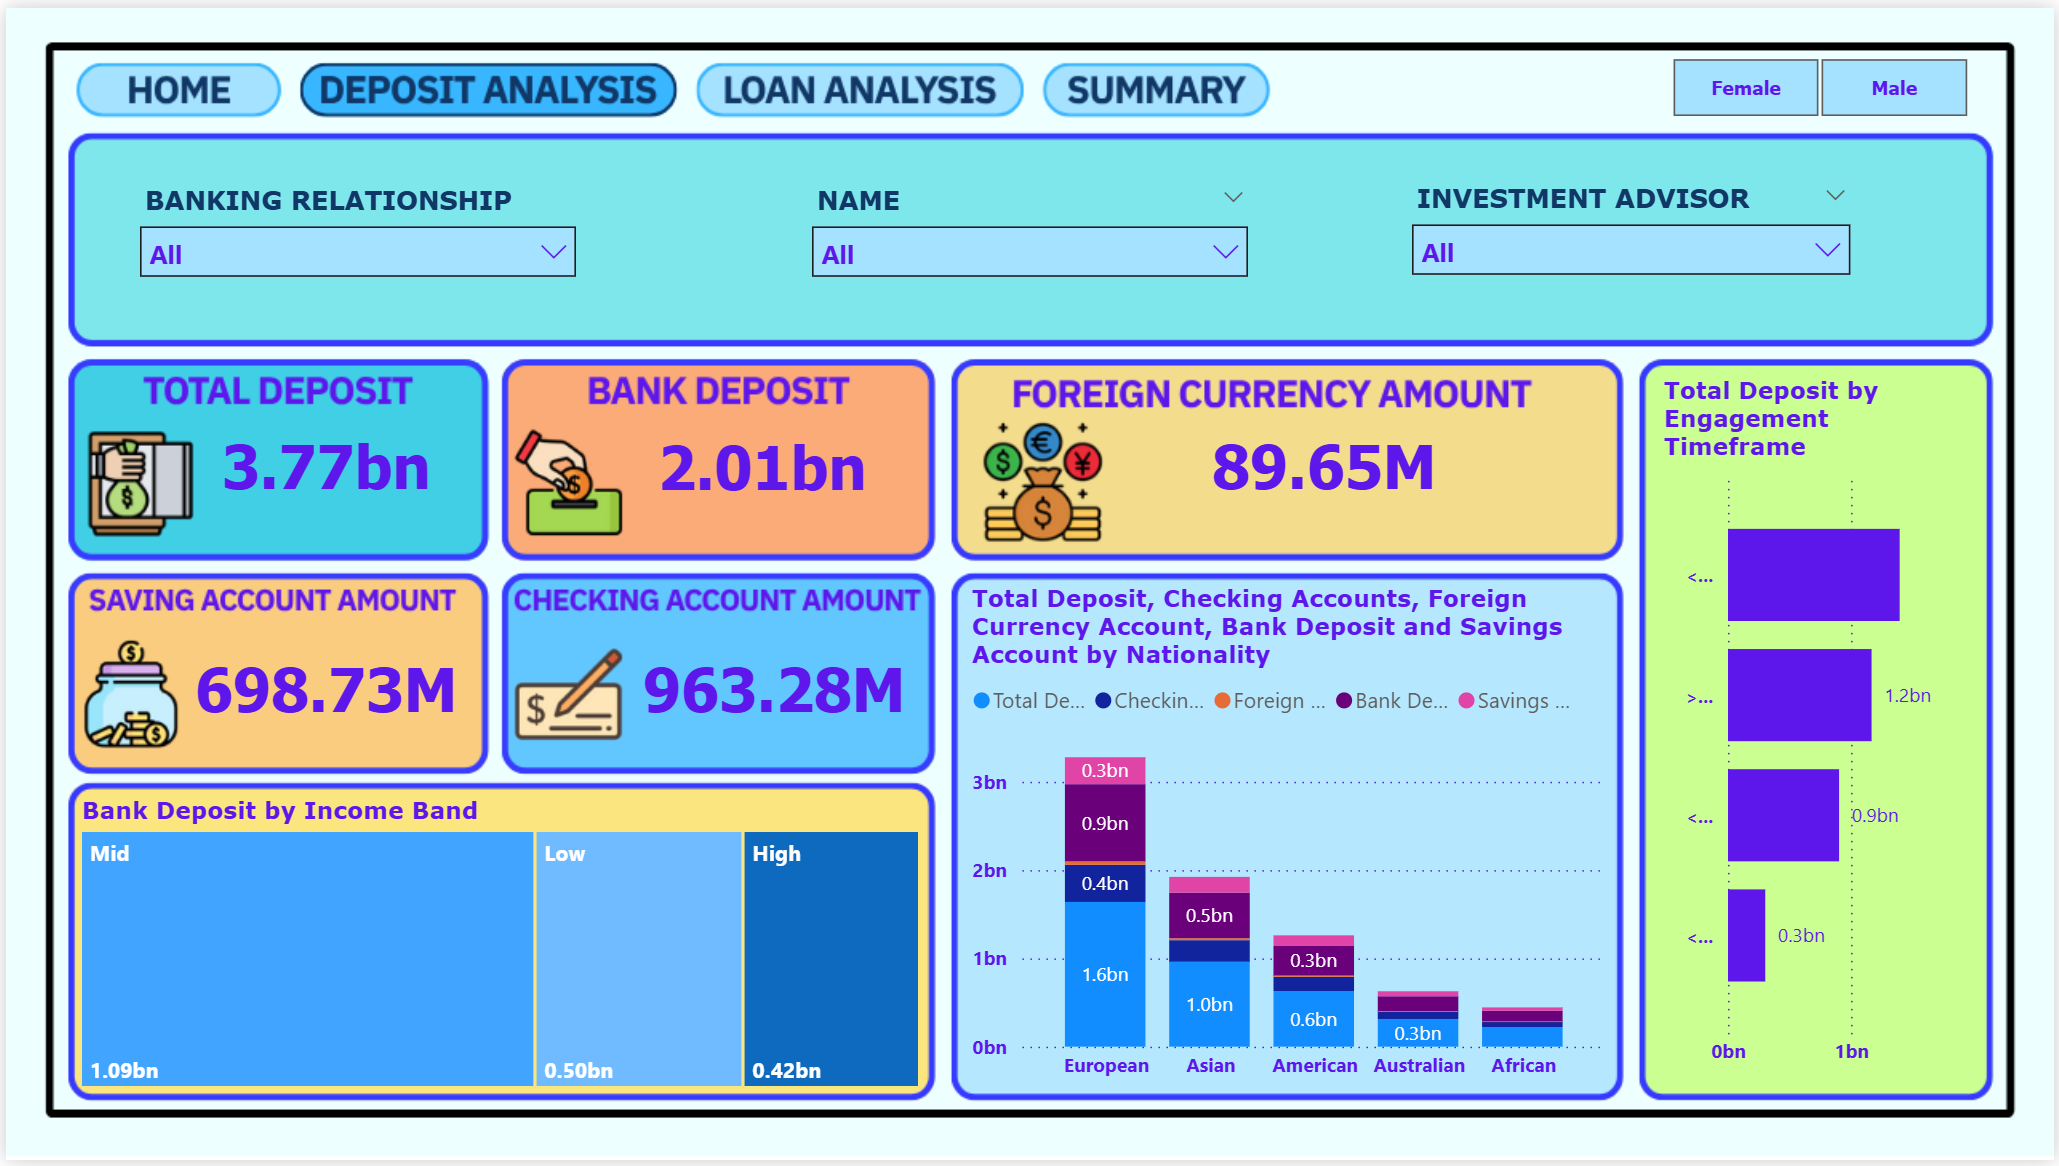

This screenshot's page, from the dashboard's own definition file:
{"tool":"powerbi","page":{"name":"Deposit Analysis","canvas":[1280,720],"ordinal":1},"visuals":[{"type":"card","fields":{"Values":[" Measures.Total Deposit"]},"box":[118.8,241.2,162.5,90],"z":0},{"type":"card","fields":{"Values":[" Measures.Bank Deposit"]},"box":[386.2,242.5,172.5,88.8],"z":1000},{"type":"card","fields":{"Values":[" Measures.Savings Account"]},"box":[111.2,381.2,177.5,88.8],"z":2000},{"type":"card","fields":{"Values":[" Measures.Checking Accounts"]},"box":[386.2,381.2,187.5,88.8],"z":3000},{"type":"card","fields":{"Values":[" Measures.Foreign Currency Account"]},"box":[648.8,241.2,350,90],"z":4000},{"type":"treemap","fields":{"Values":[" Measures.Bank Deposit"],"Group":["bank_analysis customer.Income Band"]},"box":[42.5,492.5,532.5,186.2],"z":5000},{"type":"columnChart","fields":{"Y":[" Measures.Total Deposit"," Measures.Checking Accounts"," Measures.Foreign Currency Account"," Measures.Bank Deposit"," Measures.Savings Account"],"Category":["bank_analysis customer.Nationality"]},"box":[599,360,407,319],"z":6000},{"type":"clusteredBarChart","fields":{"Category":["bank_analysis customer.Engagement Timeframe"],"Y":[" Measures.Total Deposit"]},"box":[1031.2,230,203.8,440],"z":7000},{"type":"slicer","fields":{"Values":["bank_analysis customer.Gender"]},"box":[1016.1,25.5,233.3,49.7],"z":8000},{"type":"actionButton","box":[649.1,34.5,140,32.7],"z":9000},{"type":"actionButton","box":[43.8,36.2,126.2,32.5],"z":10000},{"type":"actionButton","box":[434.4,36.7,201.1,32.2],"z":11000},{"type":"actionButton","box":[185.6,36.9,233.1,30.6],"z":12000},{"type":"slicer","fields":{"Values":["Investment Advisor.Investment Advisor"]},"box":[868.8,103.8,293.8,76.2],"z":13000},{"type":"slicer","fields":{"Values":["Banking Relationship.Banking Relationship"]},"box":[73.8,105,292.5,76.2],"z":14000},{"type":"slicer","fields":{"Values":["bank_analysis customer.Name"]},"box":[493.8,105,292.5,75],"z":15000}]}

Visuals, with their boxes in screenshot pixels (x1, y1, x2, y2), scaled from the page's 1280x720 canvas onto the 2059x1166 screenshot:
card -  Measures.Total Deposit: l=191, t=391, r=452, b=536
card -  Measures.Bank Deposit: l=621, t=393, r=899, b=537
card -  Measures.Savings Account: l=179, t=617, r=464, b=761
card -  Measures.Checking Accounts: l=621, t=617, r=923, b=761
card -  Measures.Foreign Currency Account: l=1044, t=391, r=1607, b=536
treemap -  Measures.Bank Deposit x bank_analysis customer.Income Band: l=68, t=798, r=925, b=1099
columnChart -  Measures.Total Deposit x  Measures.Checking Accounts: l=964, t=583, r=1618, b=1100
clusteredBarChart - bank_analysis customer.Engagement Timeframe x  Measures.Total Deposit: l=1659, t=372, r=1987, b=1085
slicer - bank_analysis customer.Gender: l=1634, t=41, r=2010, b=122
actionButton: l=1044, t=56, r=1269, b=109
actionButton: l=70, t=59, r=273, b=111
actionButton: l=699, t=59, r=1022, b=112
actionButton: l=299, t=60, r=674, b=109
slicer - Investment Advisor.Investment Advisor: l=1398, t=168, r=1870, b=292
slicer - Banking Relationship.Banking Relationship: l=119, t=170, r=589, b=293
slicer - bank_analysis customer.Name: l=794, t=170, r=1265, b=292
